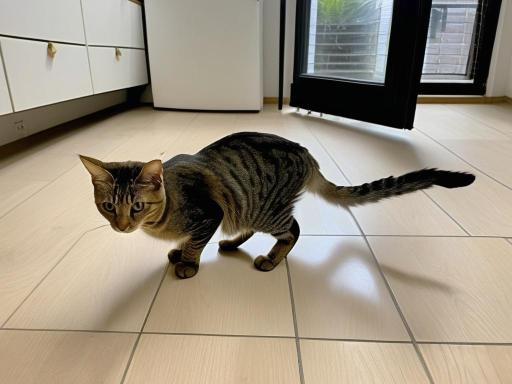cat_standing: (79, 132, 475, 278)
